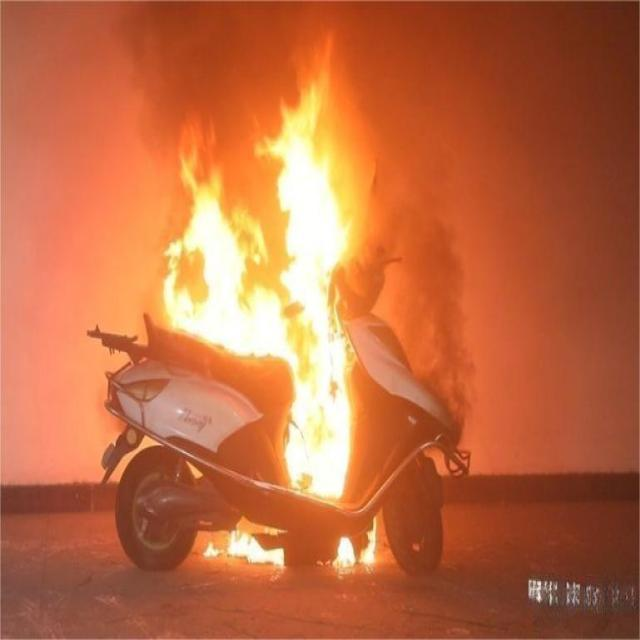Fire: (164, 98, 342, 347), (286, 346, 353, 502), (205, 528, 283, 567), (336, 528, 356, 566), (361, 521, 378, 564)
